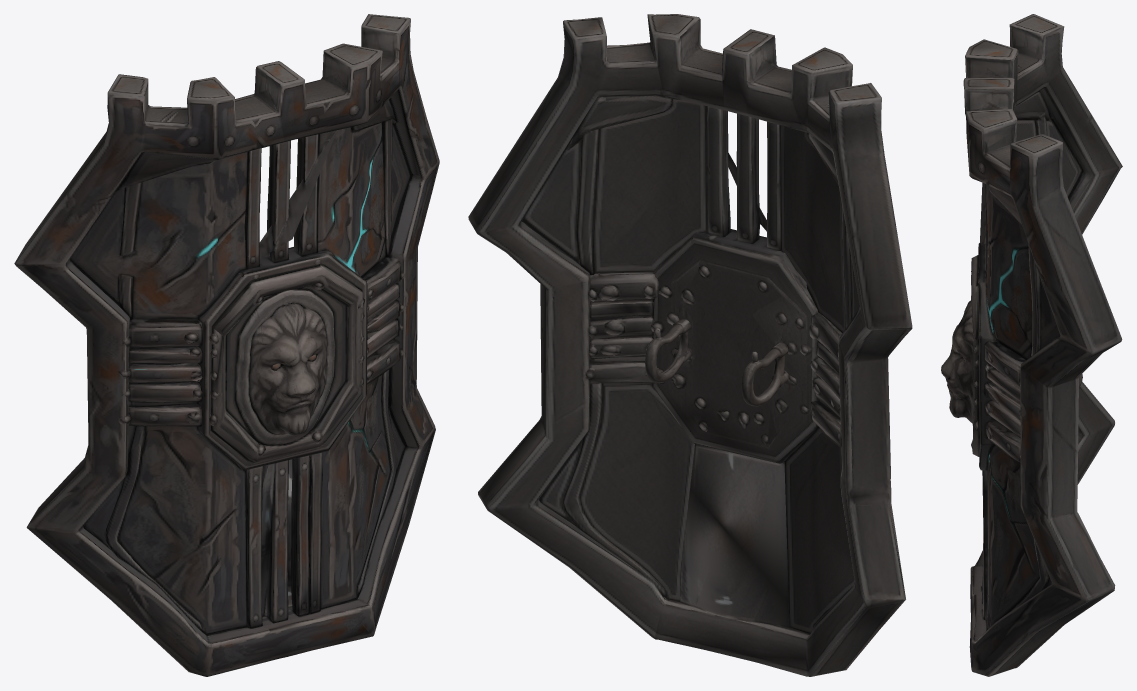
The model's file is korrath_shield.glb.
3 renders of one model, left to right at view 1: azimuth 30°, elevation 25°; view 2: azimuth 150°, elevation 25°; view 3: azimuth 270°, elevation 25°, orthographic. The views are drawn at different scales.
Parts seen in each view (by area): view 1: mesh_node; view 2: mesh_node; view 3: mesh_node.
Boxes of the visible parts, bbox=[...] form: mesh_node: bbox=[14, 14, 439, 676]; mesh_node: bbox=[468, 14, 912, 676]; mesh_node: bbox=[941, 14, 1122, 676].
Size of the model in its own units: 0.7676 by 1 by 0.2998.
Materials: 1 (1 with a texture image).
